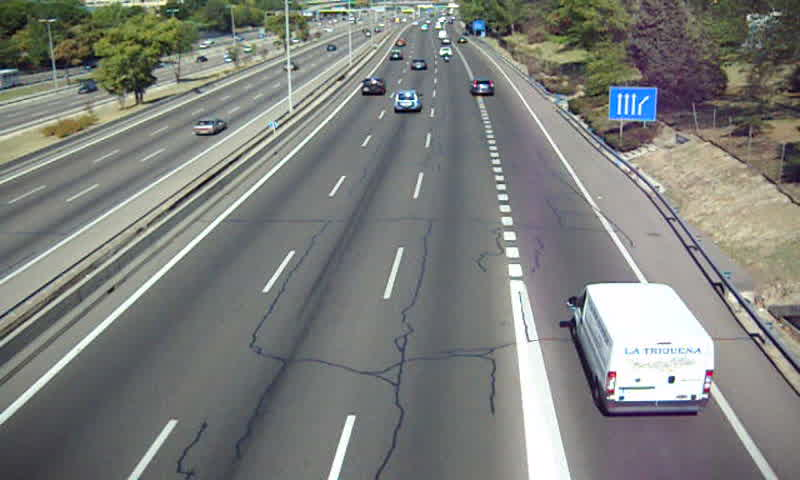car: (393, 91, 424, 114), (361, 78, 387, 98), (471, 79, 497, 98)
van: (567, 282, 721, 414)
